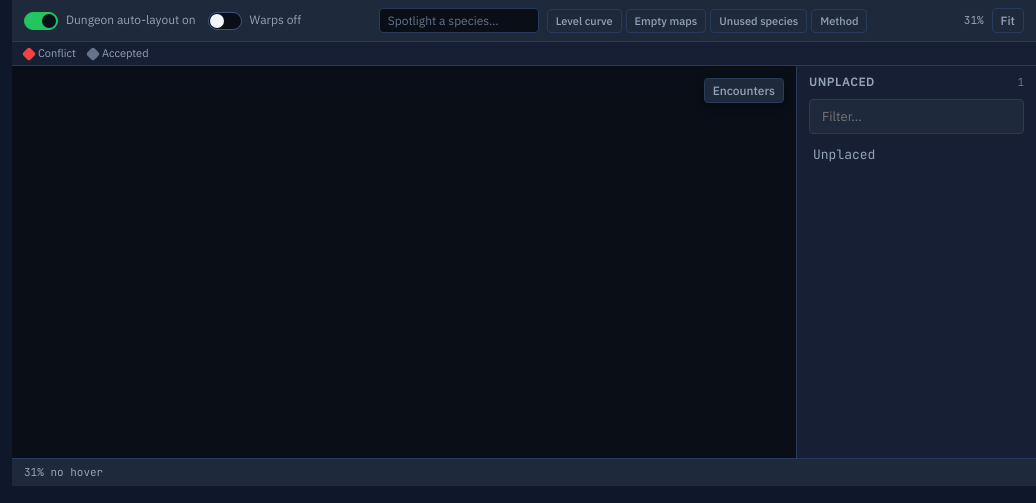
Test case: dungeon failure uses the dismissible error policy and reloads
The width and height of the screenshot is (1036, 503).
Click the switch named "Dungeon auto-layout" at [41, 20], box [24,12,58,30]
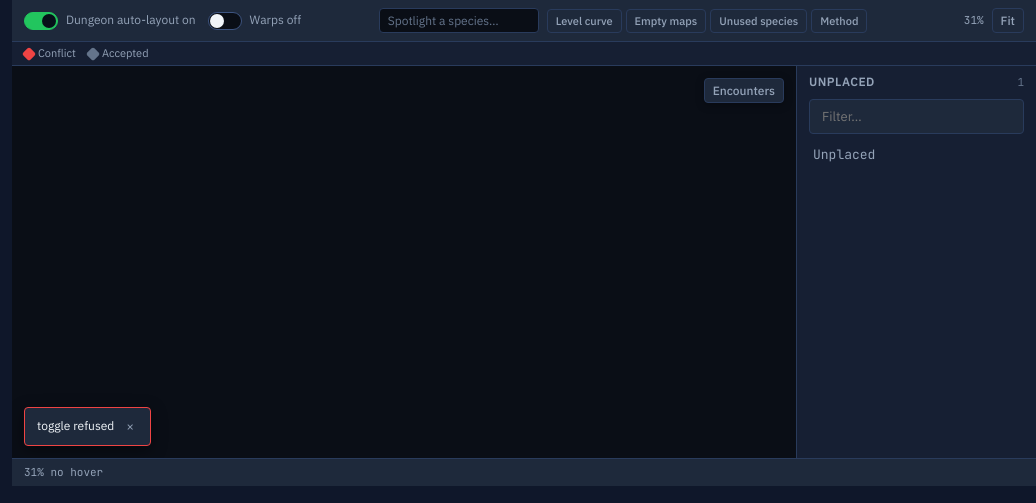
Now the text "toggle refused" is shown, box [37,418,114,434]
